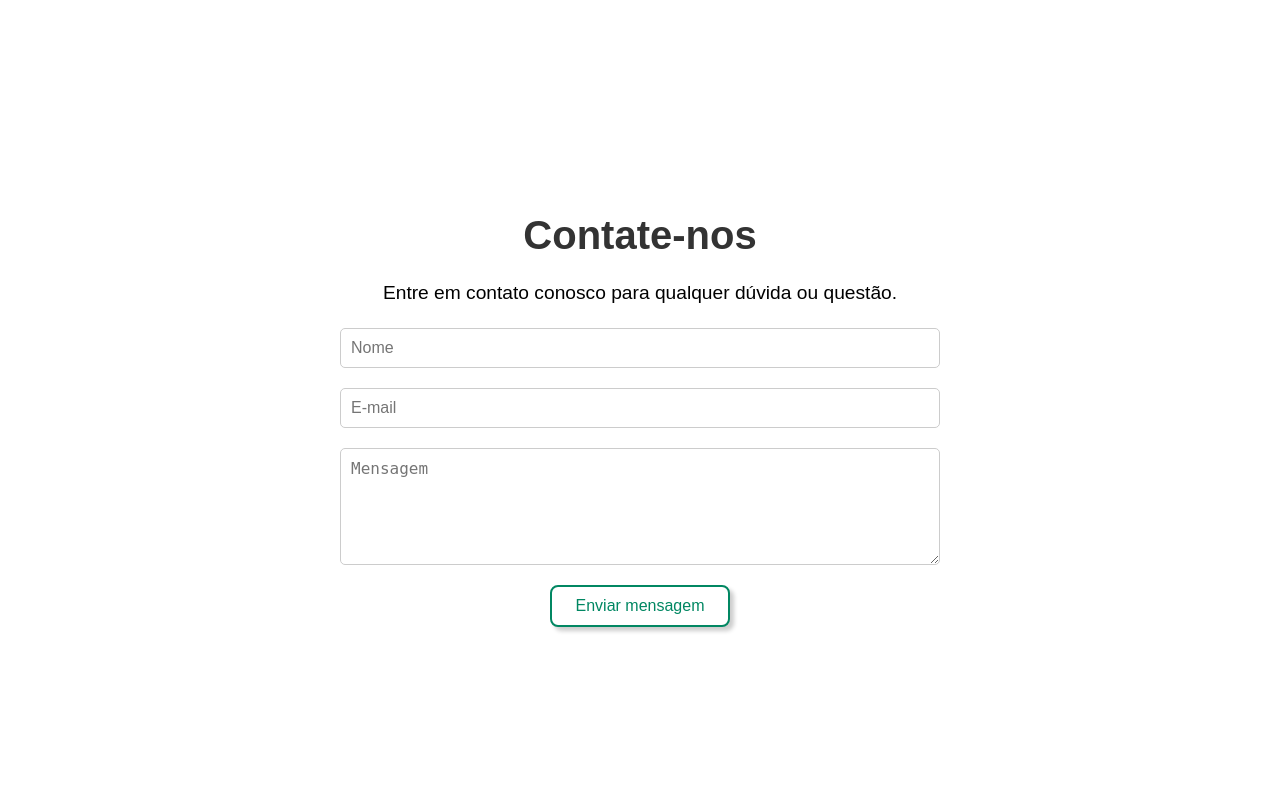
Test: Contact Page › submits the form and shows the popup
Type "Teste Nome" into the field with placeholder "Nome".
click(640, 348); type("Teste Nome")  # box [340, 328, 940, 368]
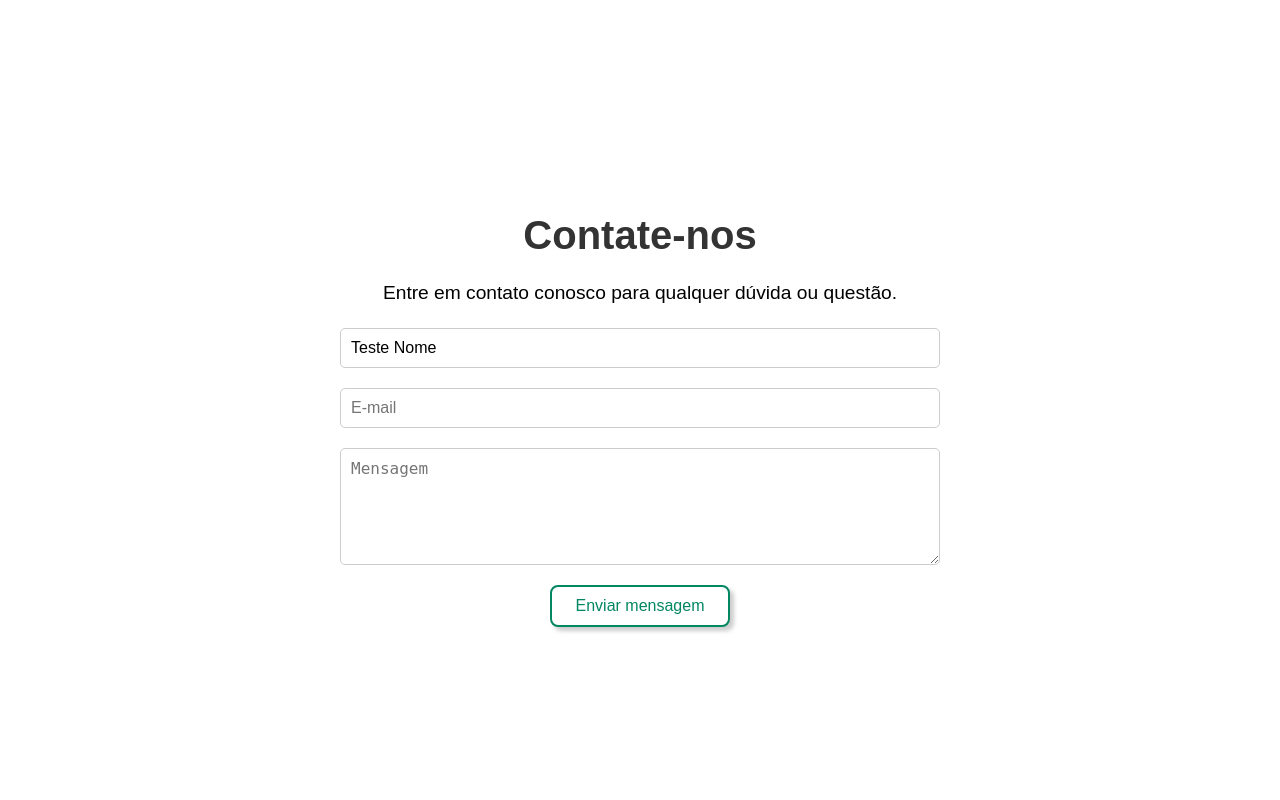
Type "teste@teste.com" into the field with placeholder "E-mail".
click(640, 408); type("teste@teste.com")  # box [340, 388, 940, 428]
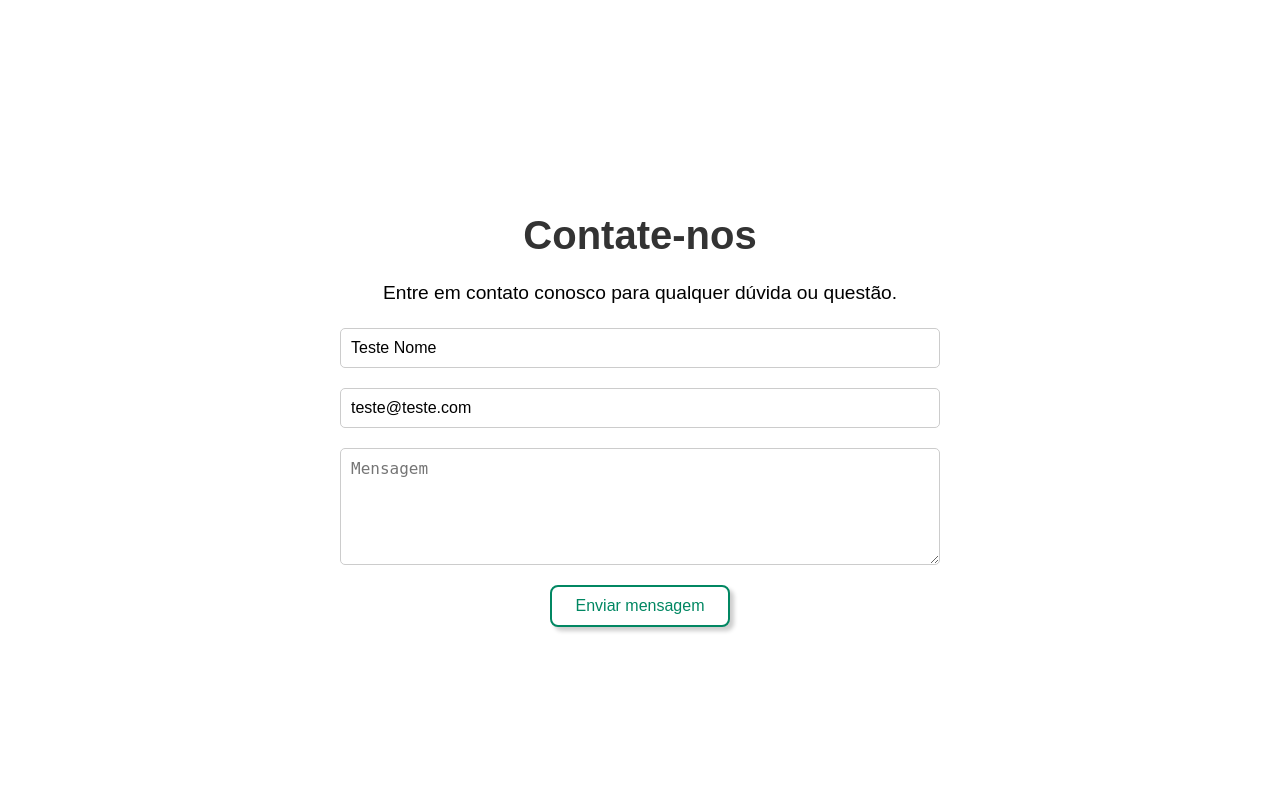
Type "Teste de mensagem" into the text box with placeholder "Mensagem".
click(640, 507); type("Teste de mensagem")  # box [340, 448, 940, 565]
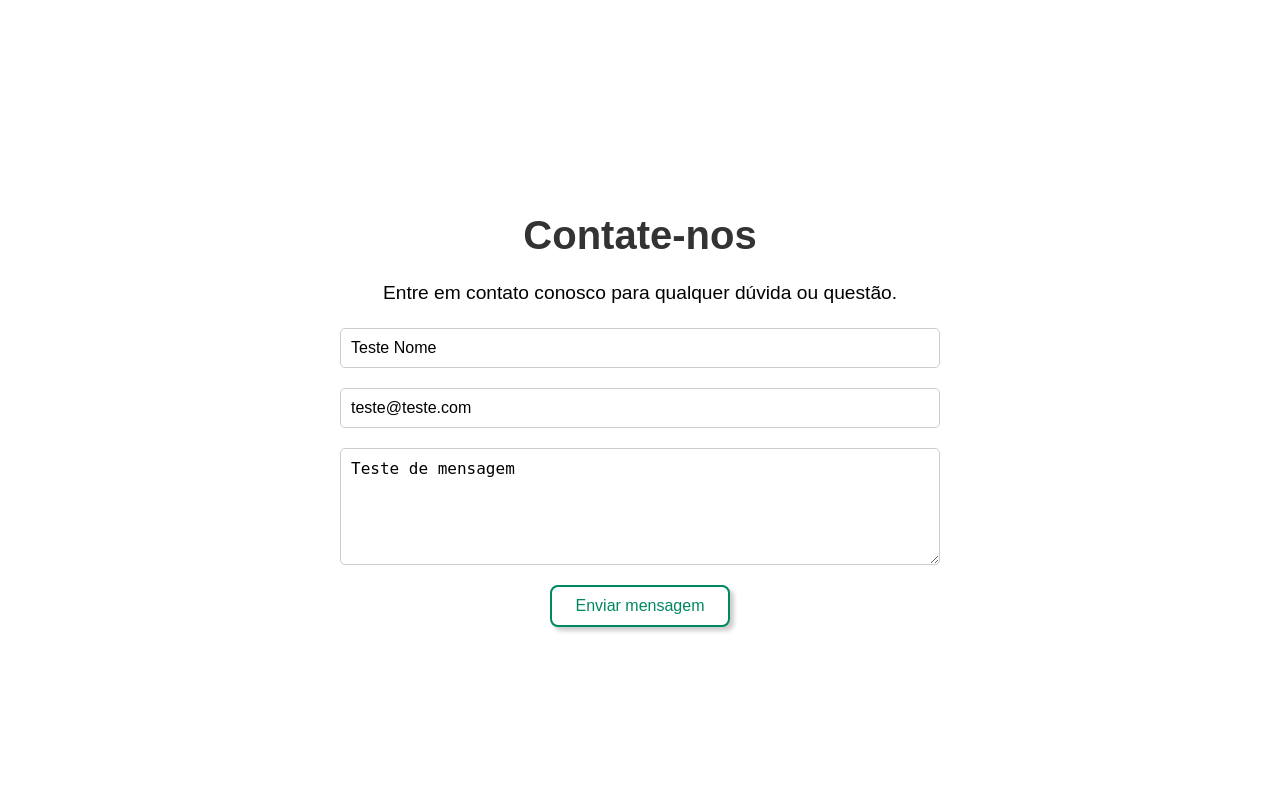
Click the button "Enviar mensagem".
click(640, 606)  # box [550, 585, 730, 627]
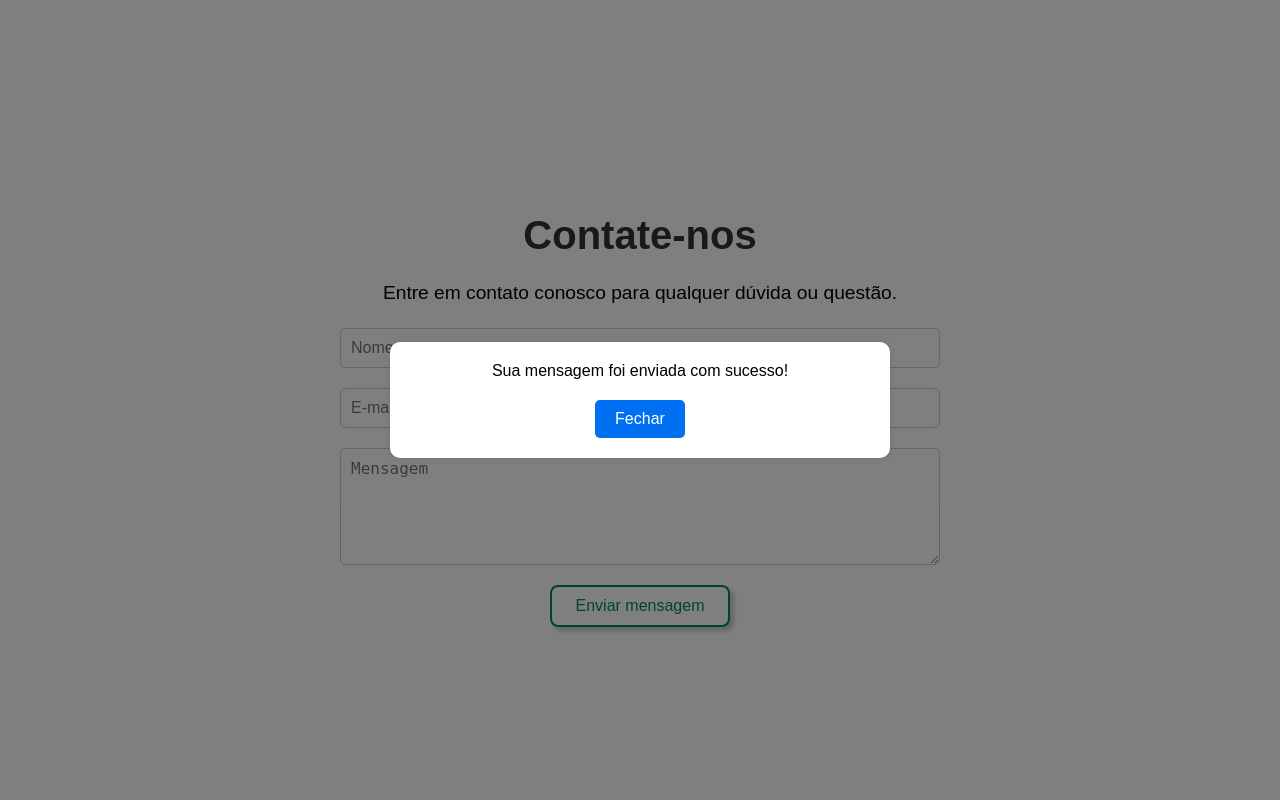
Expected: the text "Sua mensagem foi enviada com sucesso!" is shown, [492, 362, 788, 379]
Expected: the field with placeholder "Nome" is empty, [340, 328, 940, 368]
Expected: the field with placeholder "E-mail" is empty, [340, 388, 940, 428]
Click the button "Fechar".
click(640, 419)  # box [595, 400, 685, 438]
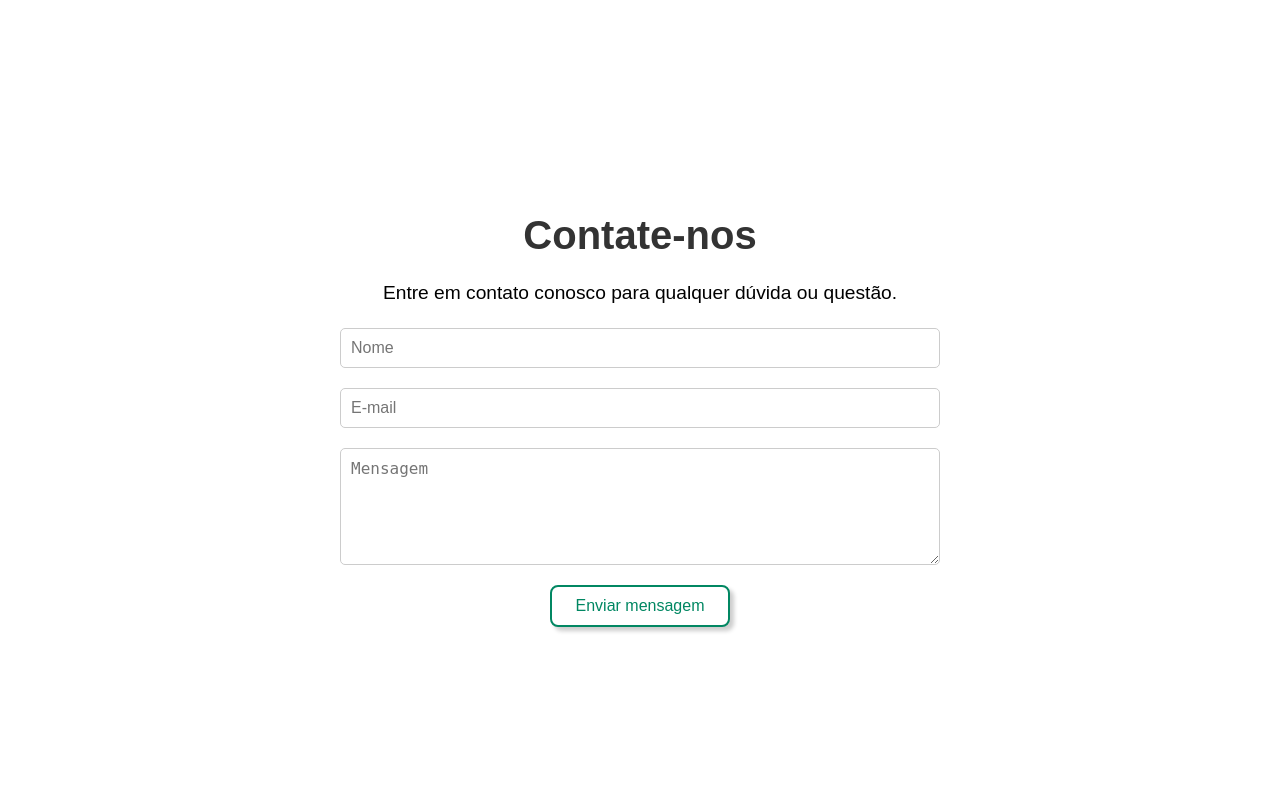
Expected: the text "Sua mensagem foi enviada com sucesso!" is gone
